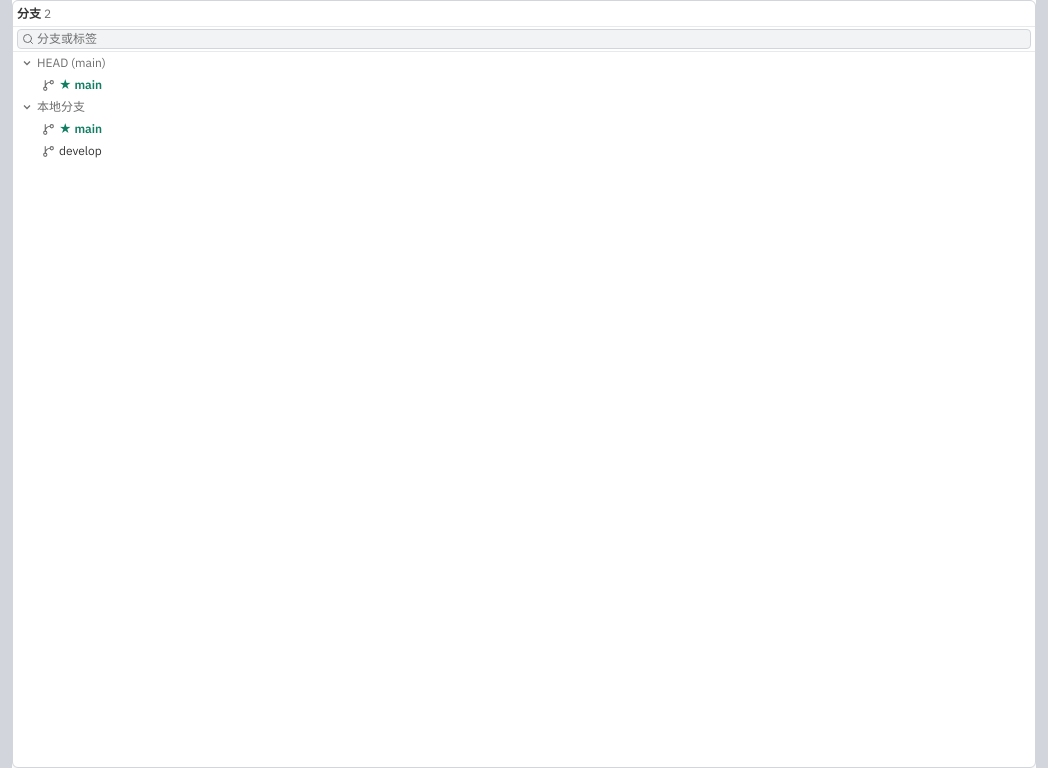
Test case: GitBranchTree › 分支组头点击可折叠/展开子分支
Expected: the text "develop" is shown, left=59, top=143, right=102, bottom=158
Click the list item "本地分支" at (61, 106), box left=13, top=96, right=1035, bottom=118
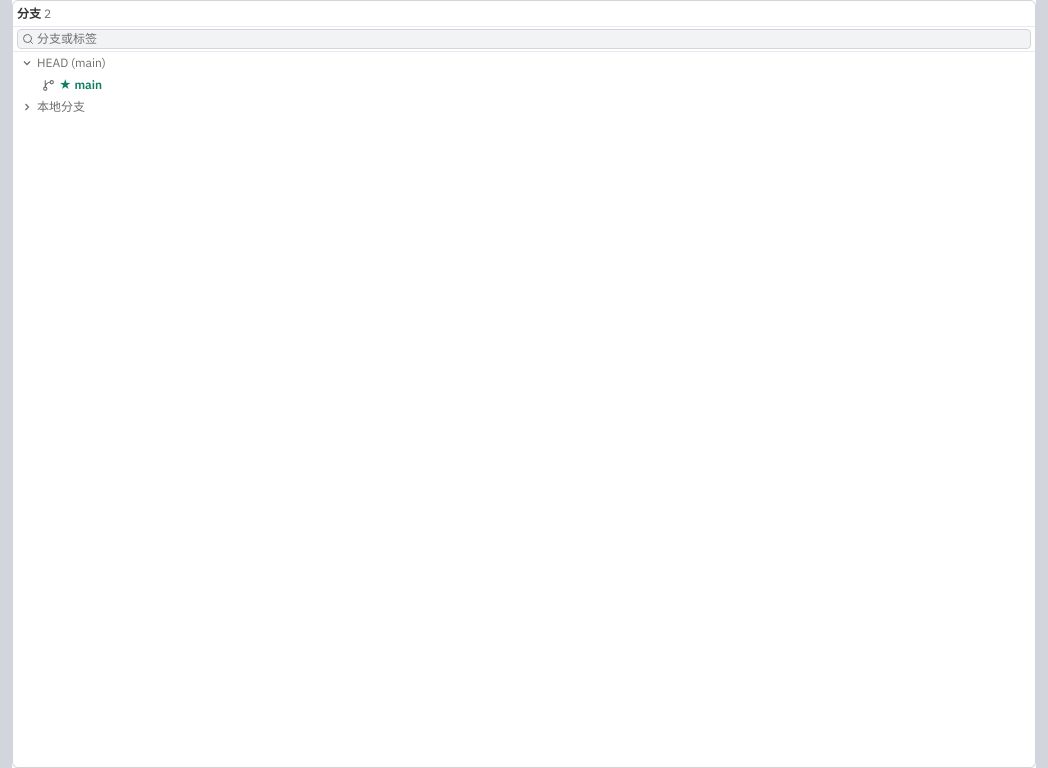
Expected: the text "HEAD (main)" is shown, left=37, top=55, right=106, bottom=70
Expected: the list item "develop" is gone
Click the list item "本地分支" at (61, 106), box left=13, top=96, right=1035, bottom=118
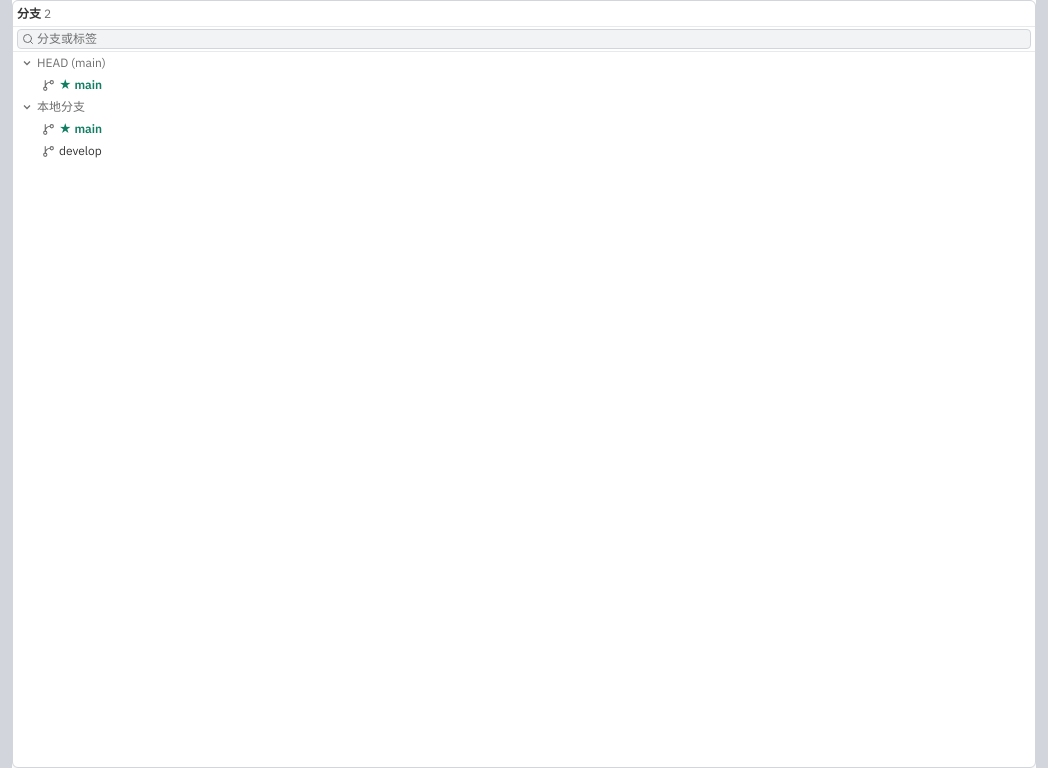
Expected: the text "develop" is shown, left=59, top=143, right=102, bottom=158
